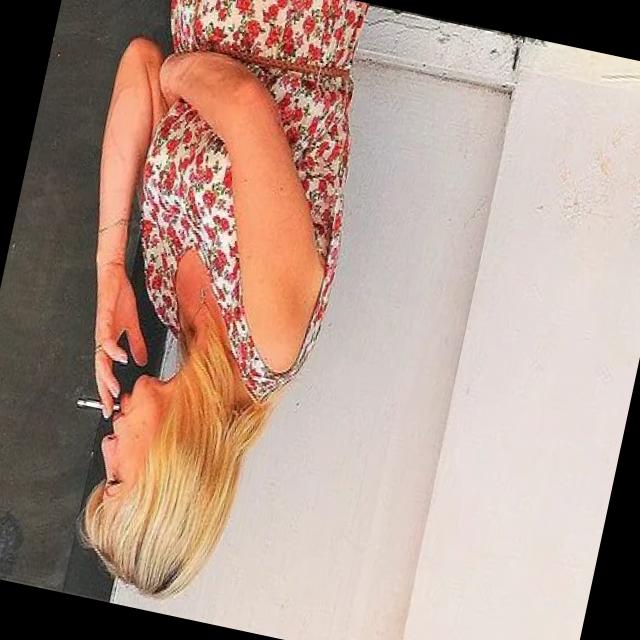smoke: (72, 391, 131, 422)
